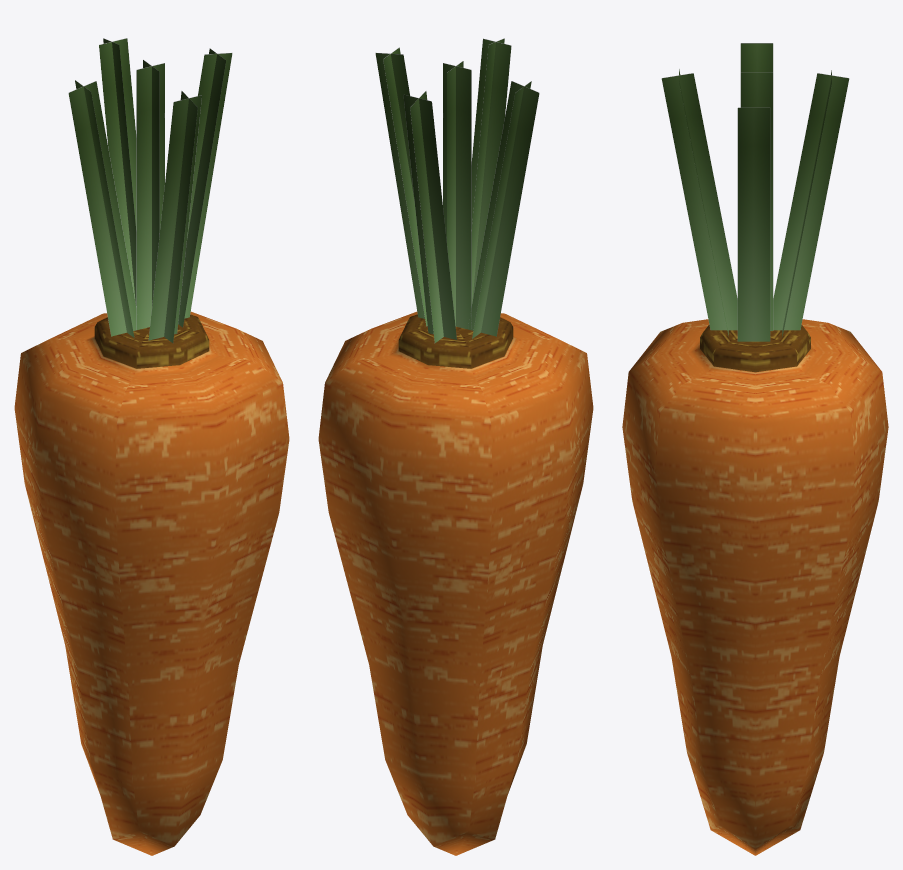
The model's file is carrot.fbx.
3 views of the same model, side by side, from view 1: azimuth 30°, elevation 25°; view 2: azimuth 150°, elevation 25°; view 3: azimuth 270°, elevation 25° (orthographic).
Parts seen in each view (by area): view 1: Cube, Plane_003, Plane, Plane_006, Plane_009, Plane_004, Plane_005, Plane_007, Plane_008, Plane_002, Plane_001; view 2: Cube, Plane_003, Plane, Plane_009, Plane_006, Plane_004, Plane_008, Plane_002, Plane_005, Plane_001, Plane_007; view 3: Cube, Plane_007, Plane_008, Plane_005, Plane_001, Plane_002, Plane_009.
Boxes of the visible parts, bbox=[...] form: Cube: bbox=[14, 311, 289, 855]; Plane_003: bbox=[68, 81, 136, 336]; Plane: bbox=[136, 63, 164, 330]; Plane_006: bbox=[148, 95, 201, 340]; Plane_009: bbox=[99, 38, 136, 301]; Plane_004: bbox=[184, 53, 232, 318]; Plane_005: bbox=[178, 48, 225, 327]; Plane_007: bbox=[164, 91, 197, 343]; Plane_008: bbox=[103, 38, 136, 305]; Plane_002: bbox=[75, 80, 134, 337]; Plane_001: bbox=[143, 60, 159, 305]; Cube: bbox=[318, 311, 593, 855]; Plane_003: bbox=[468, 81, 539, 336]; Plane: bbox=[443, 63, 471, 330]; Plane_009: bbox=[403, 94, 456, 339]; Plane_006: bbox=[471, 38, 511, 301]; Plane_004: bbox=[375, 53, 424, 318]; Plane_008: bbox=[410, 91, 443, 343]; Plane_002: bbox=[472, 81, 531, 338]; Plane_005: bbox=[383, 47, 427, 326]; Plane_001: bbox=[447, 61, 463, 326]; Plane_007: bbox=[471, 38, 504, 305]; Cube: bbox=[622, 319, 888, 855]; Plane_007: bbox=[661, 73, 737, 330]; Plane_008: bbox=[773, 73, 849, 330]; Plane_005: bbox=[737, 107, 770, 341]; Plane_001: bbox=[740, 72, 773, 330]; Plane_002: bbox=[740, 43, 773, 72]; Plane_009: bbox=[782, 70, 831, 336].
Size of the model in its own units: 0.9603 by 3.2 by 0.9603.
